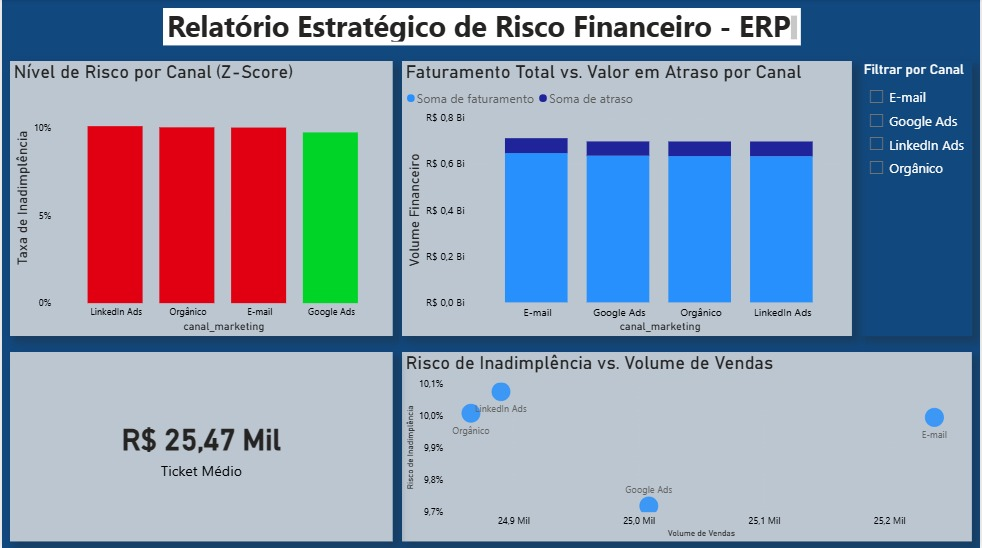

The dashboard page shown, as its layout file describes it:
{"tool":"powerbi","page":{"name":"Página 1","canvas":[1280,720],"ordinal":0},"visuals":[{"type":"columnChart","title":"Nível de Risco por Canal (Z-Score)","fields":{"Category":["resultado_bi.canal_marketing"],"Y":["Sum(resultado_bi.taxa_inadimplencia)"]},"box":[10.1,80.6,501.1,360],"z":0},{"type":"scatterChart","title":"Risco de Inadimplência vs. Volume de Vendas","fields":{"X":["Sum(resultado_bi.total_vendas)"],"Y":["Sum(resultado_bi.taxa_inadimplencia)"],"Size":["Sum(resultado_bi.faturamento_total)"],"Category":["resultado_bi.canal_marketing"]},"box":[524.2,462.2,745.9,247.7],"z":1000},{"type":"card","fields":{"Values":["resultado_bi.Ticket Médio"]},"box":[10.1,462.2,501.1,247.7],"z":2000},{"type":"textbox","box":[210.2,11.5,835.2,49],"z":3000},{"type":"columnChart","title":"Faturamento Total vs. Valor em Atraso por Canal","fields":{"Category":["resultado_bi.canal_marketing"],"Y":["Sum(resultado_bi.faturamento_total)","Sum(resultado_bi.valor_atraso)"]},"box":[524.2,80.6,589,360],"z":4000},{"type":"slicer","title":"Filtrar por Canal","fields":{"Values":["resultado_bi.canal_marketing"]},"box":[1123.2,80.6,146.9,398.9],"z":5000}]}

Visuals, with their boxes in screenshot pixels (x1, y1, x2, y2), scaled from the page's 1280x720 canvas onto the 982x548 screenshot:
"Nível de Risco por Canal (Z-Score)" columnChart: bbox=[8, 61, 392, 335]
"Risco de Inadimplência vs. Volume de Vendas" scatterChart: bbox=[402, 352, 974, 540]
card - resultado_bi.Ticket Médio: bbox=[8, 352, 392, 540]
textbox: bbox=[161, 9, 802, 46]
"Faturamento Total vs. Valor em Atraso por Canal" columnChart: bbox=[402, 61, 854, 335]
"Filtrar por Canal" slicer: bbox=[862, 61, 974, 365]
